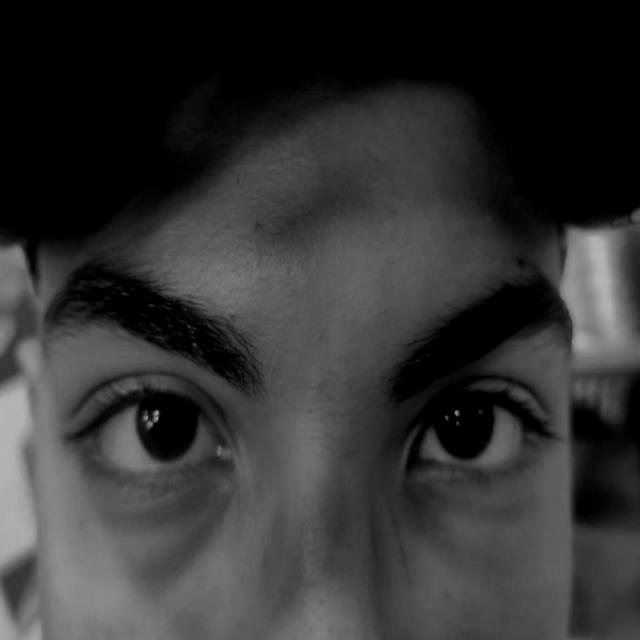real: (44, 310, 566, 544)
